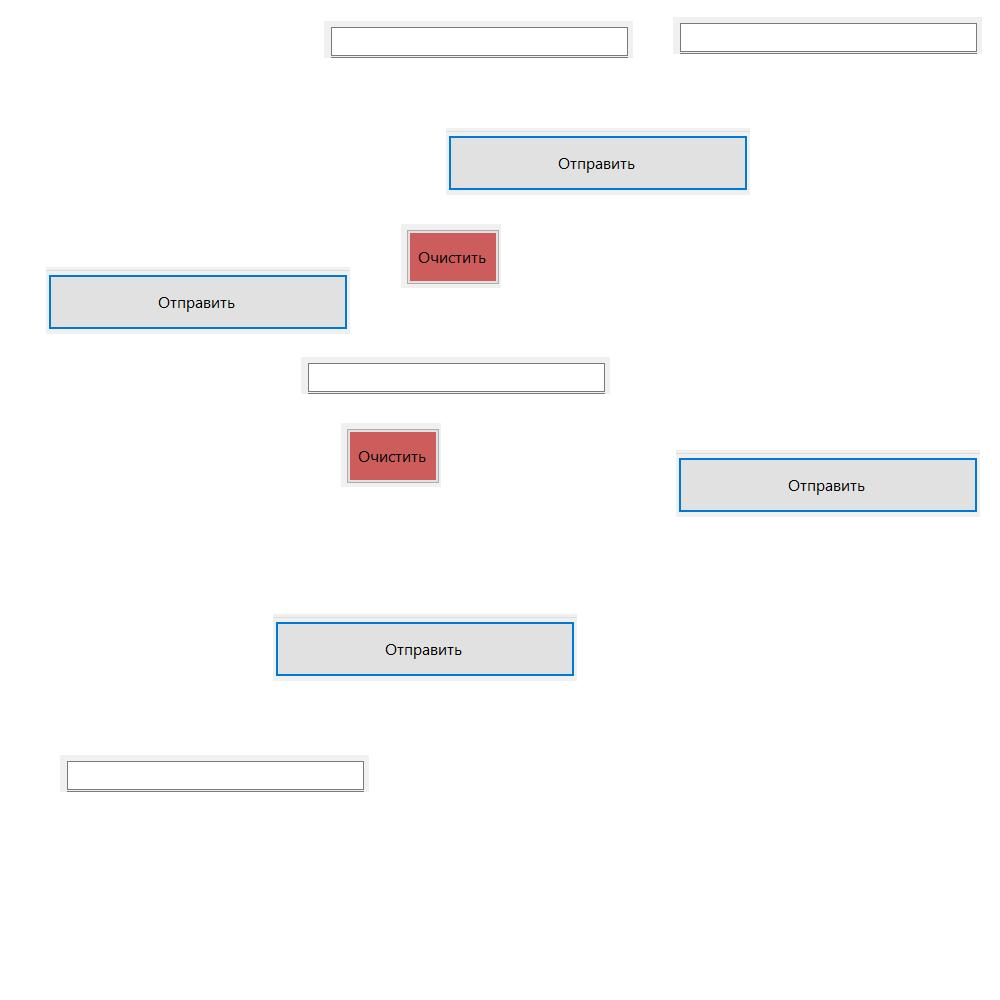Button: (446, 128, 750, 195), (676, 450, 980, 517), (273, 614, 577, 681), (46, 267, 350, 334), (341, 423, 441, 487), (401, 224, 501, 288)
EditText-: (673, 17, 982, 54), (324, 21, 633, 58), (301, 357, 610, 394), (60, 755, 369, 792)
